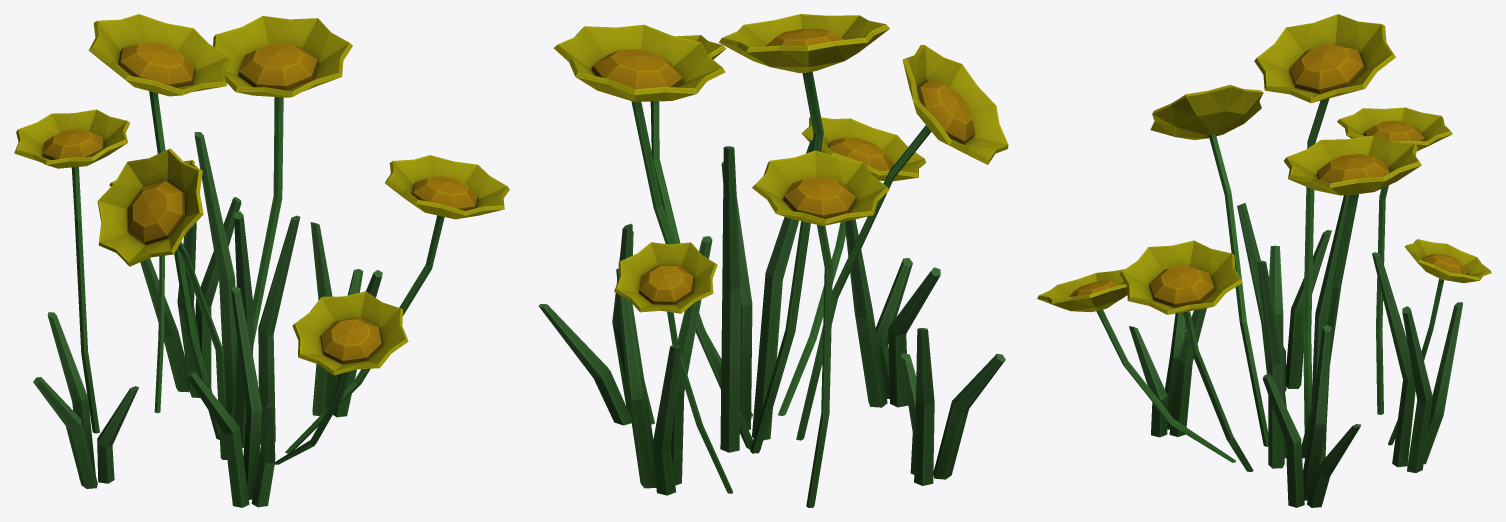
File: DesertMarigold.glb
3 renders of one model, left to right at view 1: azimuth 30°, elevation 25°; view 2: azimuth 150°, elevation 25°; view 3: azimuth 270°, elevation 25°, orthographic. The views are drawn at different scales.
Visible parts, largest first — view 1: node-0; view 2: node-0; view 3: node-0.
Part boxes in pixels (left/top/right/bottom): node-0: left=14, top=14, right=509, bottom=507; node-0: left=539, top=14, right=1008, bottom=507; node-0: left=1037, top=14, right=1491, bottom=507.
Bounding box in the file's own units: 6.62 × 6.2 × 6.55.
1 material, 1 textured.
